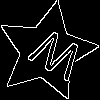W: (21, 27, 87, 91)
